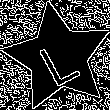L_NW: (32, 28, 84, 87)
